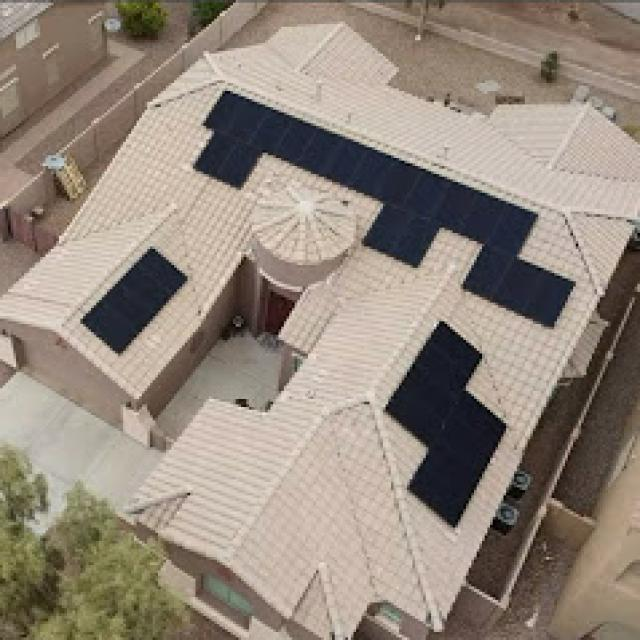clean-solar-panel: (197, 91, 573, 325), (386, 323, 506, 526), (83, 247, 187, 354)
